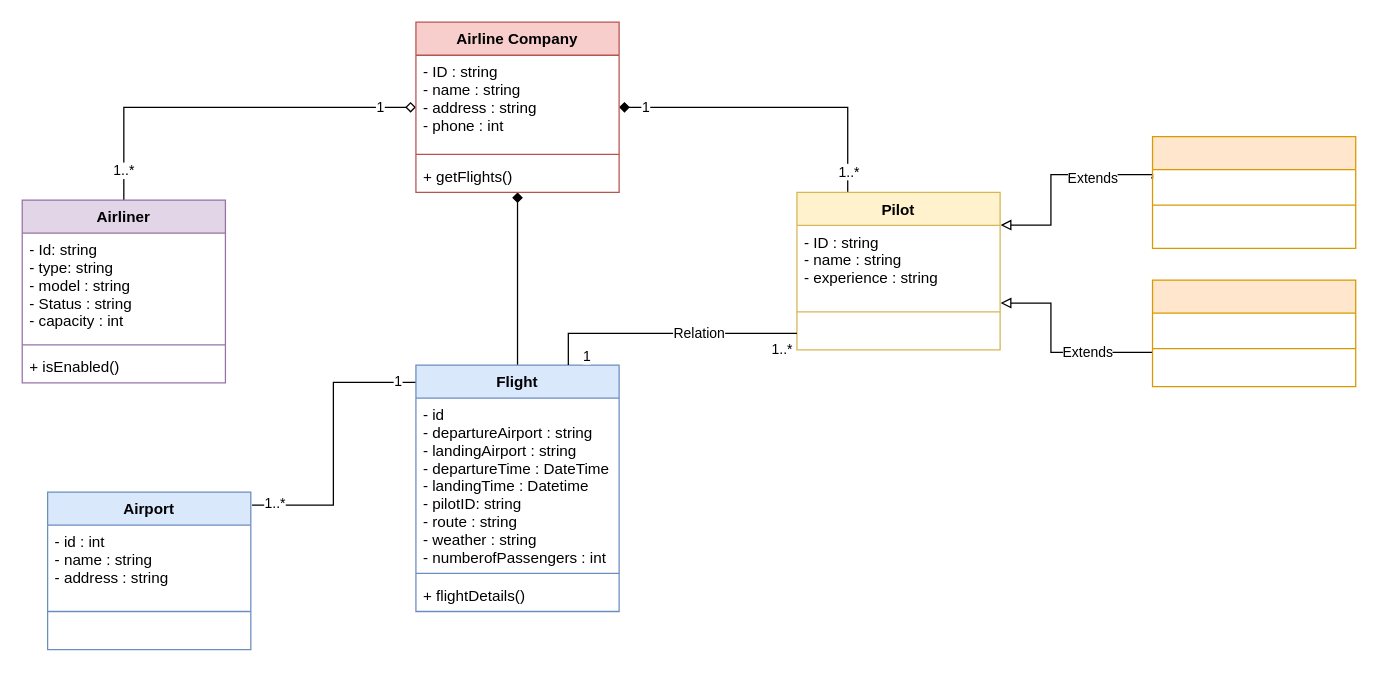
This 1378x676 diagram has some shape labels left out. Here are the shapes that lost their labels. From the top down, the centre of each, then its label:
At pixel 1253 191: "Chief Pilot".
At pixel 1253 333: "Co-Pilot".
